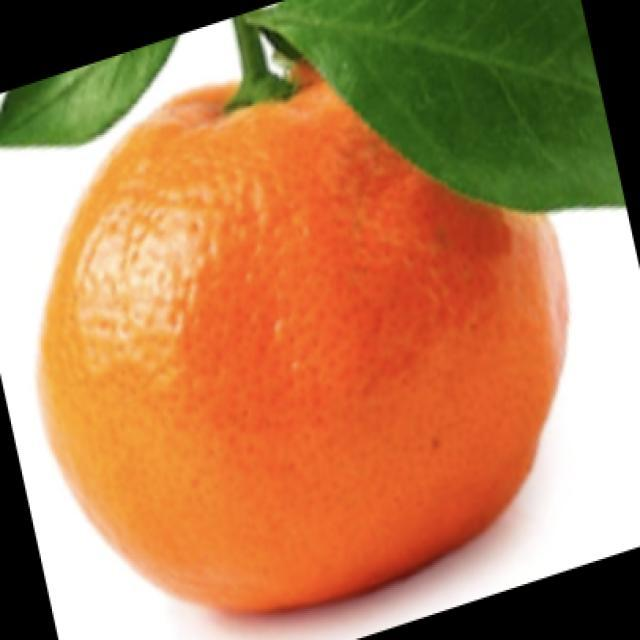matang: (42, 74, 563, 610)
